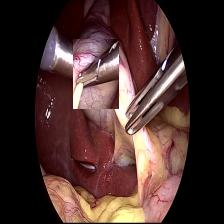Grasper: (125, 54, 173, 146), (73, 39, 119, 109)
